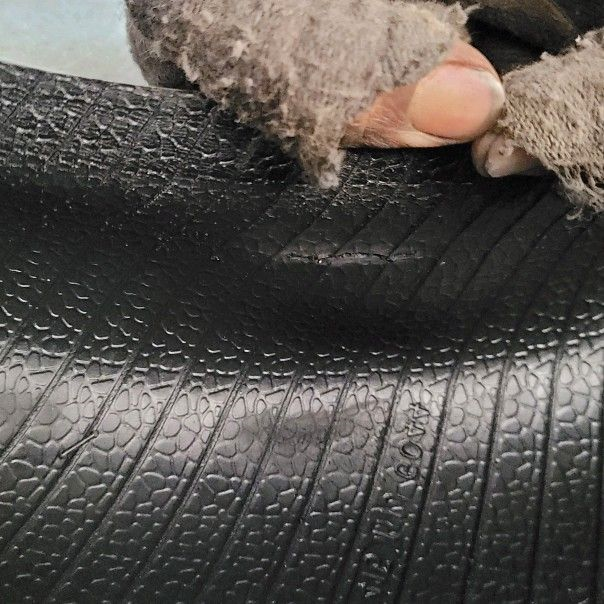cut: (273, 248, 418, 266)
